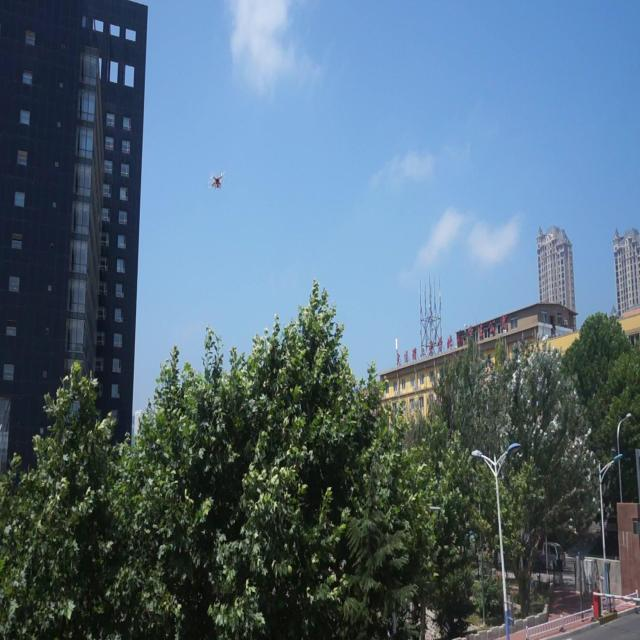drone: (209, 168, 227, 195)
